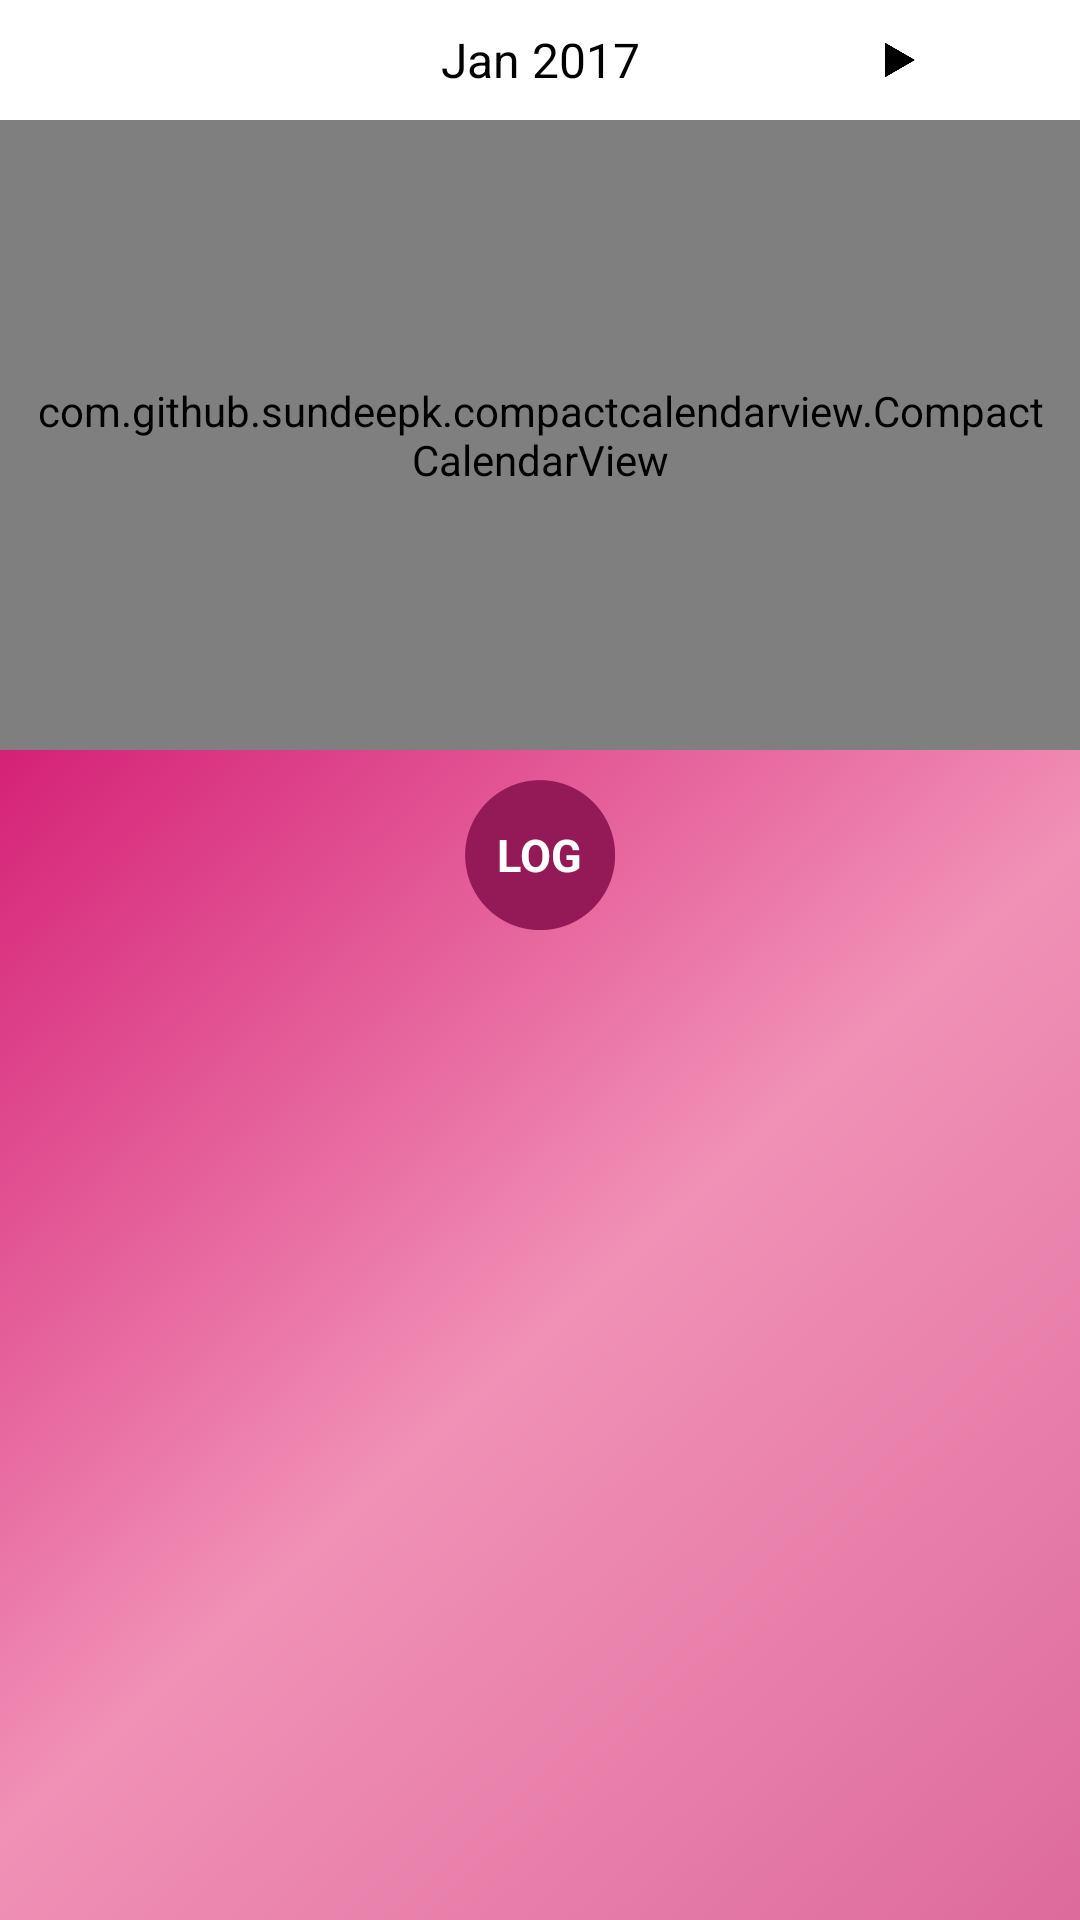

Point at icon controls on the screen. Image size 1080x1920, points as [x,y].
next month: [900,60]
